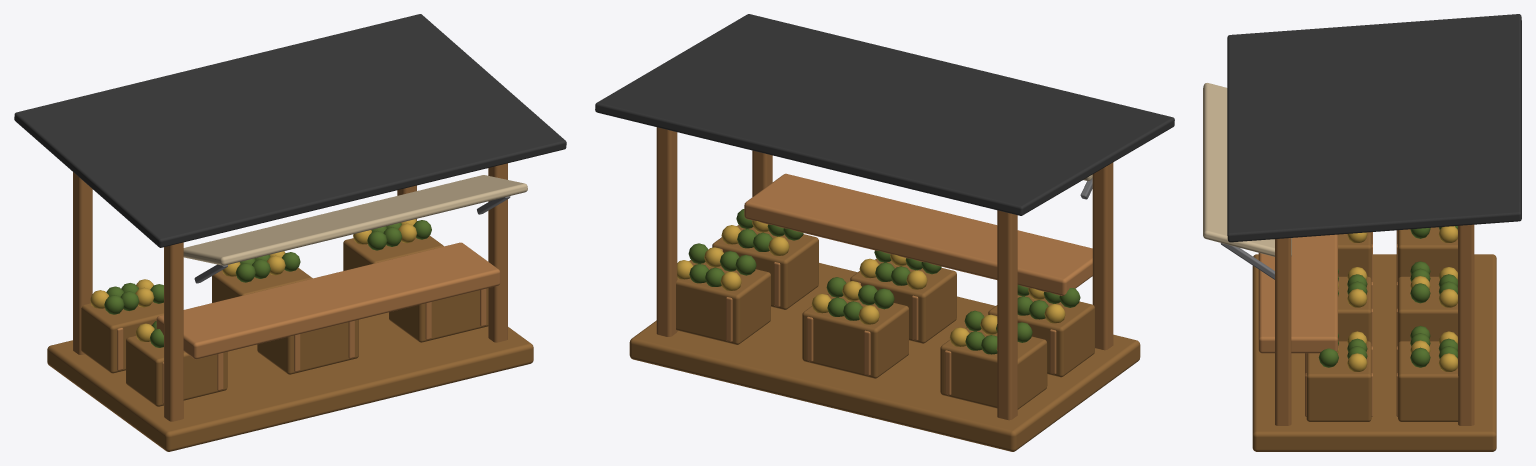
The model's file is roadside-stand.glb.
3 views of the same model, side by side, from view 1: azimuth 30°, elevation 25°; view 2: azimuth 150°, elevation 25°; view 3: azimuth 270°, elevation 25° (orthographic). The views are drawn at different scales.
Parts seen in each view (by area): view 1: roadside-stand-farm-roof-slate, roadside-stand-farm-wood-dark, roadside-stand-farm-wood-light, roadside-stand-farm-wood, roadside-stand-farm-cloth, roadside-stand-farm-leaf, roadside-stand-farm-gold; view 2: roadside-stand-farm-roof-slate, roadside-stand-farm-wood-dark, roadside-stand-farm-wood-light, roadside-stand-farm-wood, roadside-stand-farm-leaf, roadside-stand-farm-gold; view 3: roadside-stand-farm-roof-slate, roadside-stand-farm-wood-dark, roadside-stand-farm-wood-light, roadside-stand-farm-wood, roadside-stand-farm-cloth, roadside-stand-farm-leaf, roadside-stand-farm-gold, roadside-stand-farm-metal.
Part boxes in pixels (bbox=[...]): roadside-stand-farm-roof-slate: bbox=[14, 14, 566, 247]; roadside-stand-farm-wood-dark: bbox=[47, 235, 533, 451]; roadside-stand-farm-wood-light: bbox=[117, 242, 500, 403]; roadside-stand-farm-wood: bbox=[73, 163, 507, 421]; roadside-stand-farm-cloth: bbox=[183, 175, 527, 265]; roadside-stand-farm-leaf: bbox=[104, 220, 431, 347]; roadside-stand-farm-gold: bbox=[90, 219, 416, 341]; roadside-stand-farm-roof-slate: bbox=[595, 14, 1174, 215]; roadside-stand-farm-wood-dark: bbox=[629, 225, 1140, 451]; roadside-stand-farm-wood-light: bbox=[721, 173, 1092, 395]; roadside-stand-farm-wood: bbox=[656, 127, 1113, 420]; roadside-stand-farm-leaf: bbox=[688, 209, 1080, 354]; roadside-stand-farm-gold: bbox=[677, 220, 1065, 350]; roadside-stand-farm-roof-slate: bbox=[1227, 14, 1521, 242]; roadside-stand-farm-wood-dark: bbox=[1252, 227, 1496, 451]; roadside-stand-farm-wood-light: bbox=[1258, 230, 1397, 416]; roadside-stand-farm-wood: bbox=[1275, 224, 1474, 425]; roadside-stand-farm-cloth: bbox=[1203, 83, 1291, 256]; roadside-stand-farm-leaf: bbox=[1318, 226, 1457, 367]; roadside-stand-farm-gold: bbox=[1319, 226, 1457, 371]; roadside-stand-farm-metal: bbox=[1220, 243, 1274, 279].
Size of the model in its own units: 4.65 by 2.71 by 3.13.
